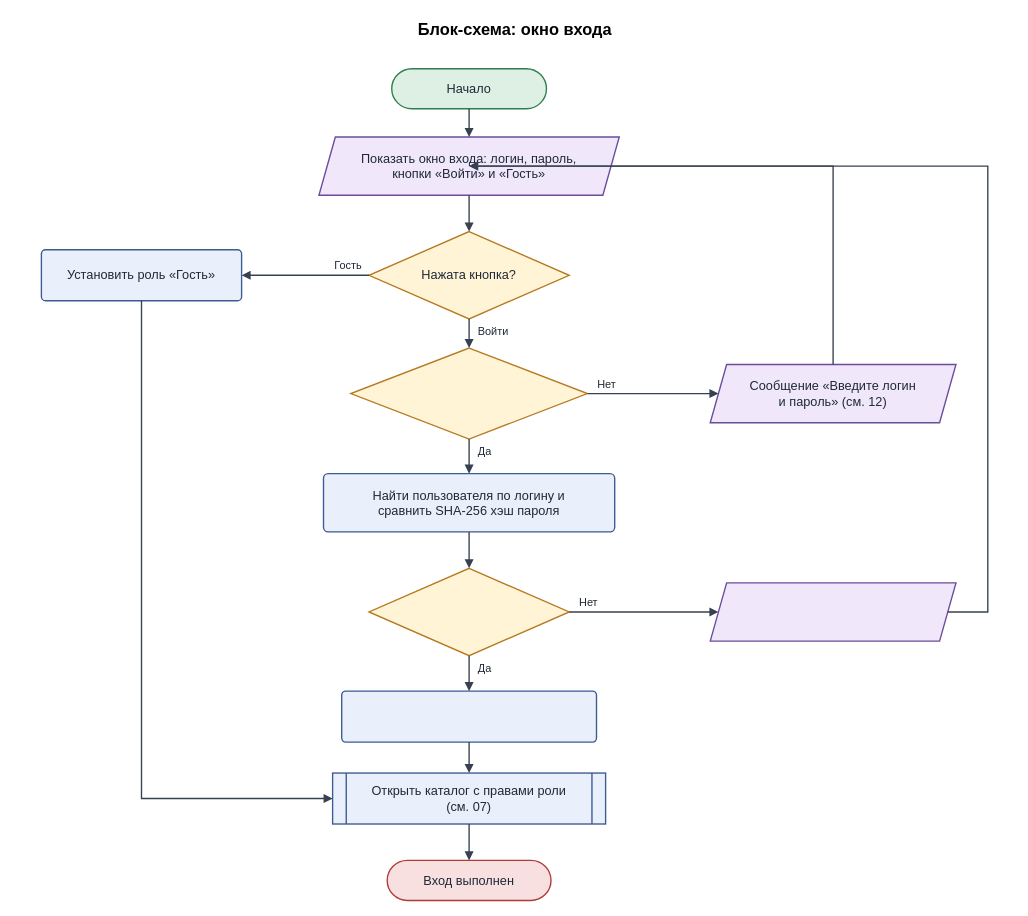
This 1028x916 diagram has some shape labels left out. Here are the shapes that lost their labels. From the top down, the box of each, then its label:
(350, 347, 588, 439): Логин и пароль введены?
(368, 567, 569, 656): Хэш совпал?
(709, 582, 956, 641): Сообщение «Неверный логин или пароль» (см. 12)
(341, 690, 597, 742): Определить роль по таблице roles
